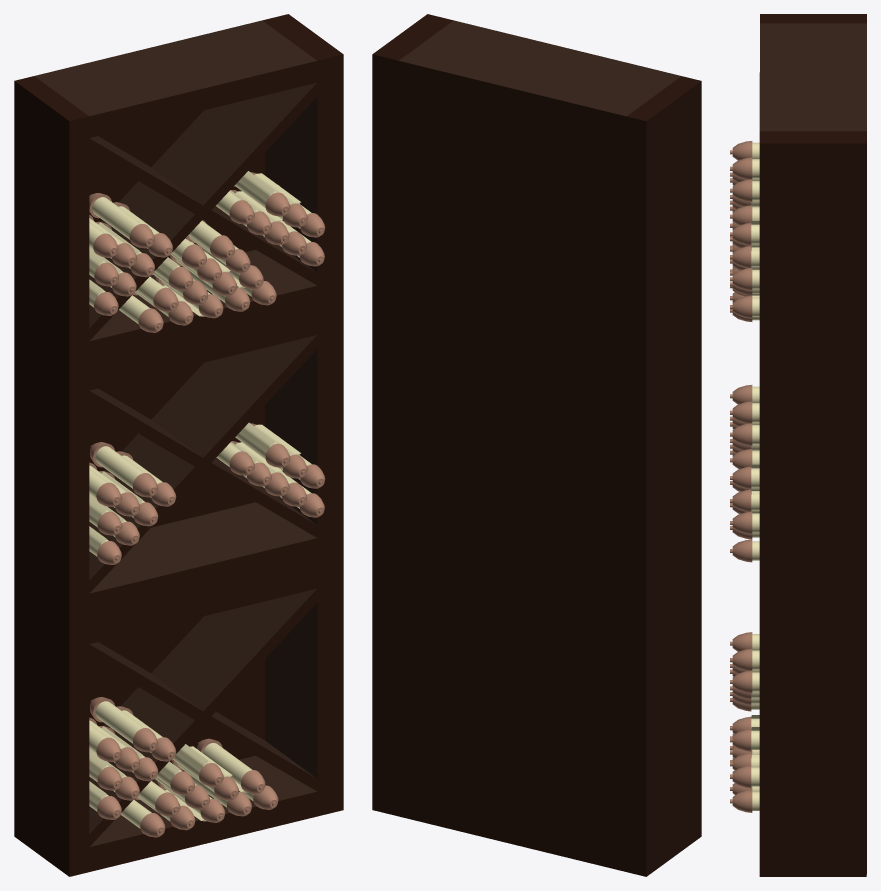
File: Scaffale 2 + Ogg .fbx
The picture shows the model from 3 angles, left to right: view 1: azimuth 30°, elevation 25°; view 2: azimuth 150°, elevation 25°; view 3: azimuth 270°, elevation 25°; orthographic projection. The views are drawn at different scales.
Parts seen in each view (by area): view 1: Library 1.032, Cylinder.241, Cylinder.249, Cylinder.221, Cylinder.144, Cylinder.307, Cylinder.315, Cylinder.145, Cylinder.134, Cylinder.136, Cylinder.126, Cylinder.141 (+31 smaller); view 2: Library 1.032; view 3: Library 1.032, Cylinder.315, Cylinder.145, Cylinder.307, Cylinder.138, Cylinder.215, Cylinder.240, Cylinder.301, Cylinder.221, Cylinder.248, Cylinder.303, Cylinder.241 (+13 smaller).
Boxes of the visible parts, x1,y1,x2,y2 form: Library 1.032: (14,14,343,876); Cylinder.241: (90,442,157,497); Cylinder.249: (90,697,157,752); Cylinder.221: (89,193,154,248); Cylinder.144: (197,738,265,794); Cylinder.307: (234,171,290,216); Cylinder.315: (235,422,290,467); Cylinder.145: (173,744,223,786); Cylinder.134: (188,221,235,259); Cylinder.136: (121,800,165,837); Cylinder.126: (119,295,163,332); Cylinder.141: (138,781,180,816); Library 1.032: (372,14,701,876); Library 1.032: (759,14,866,876); Cylinder.315: (730,464,759,489); Cylinder.145: (730,727,759,751); Cylinder.307: (730,221,759,245); Cylinder.138: (730,790,759,812); Cylinder.215: (730,179,759,202); Cylinder.240: (730,423,759,445); Cylinder.301: (730,295,759,318); Cylinder.221: (730,157,759,179); Cylinder.248: (730,670,759,693); Cylinder.303: (730,268,759,290); Cylinder.241: (730,401,759,423).
Size of the model in its own units: 200 by 527 by 89.17.
